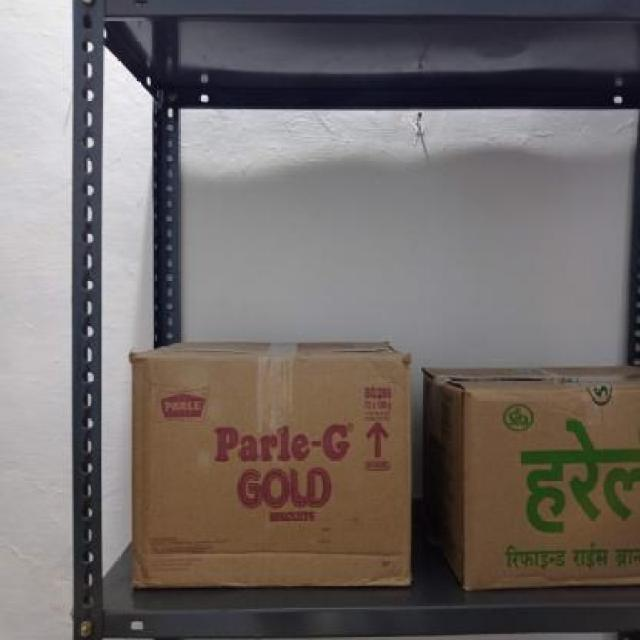box: (126, 356, 414, 584), (458, 388, 640, 584)
